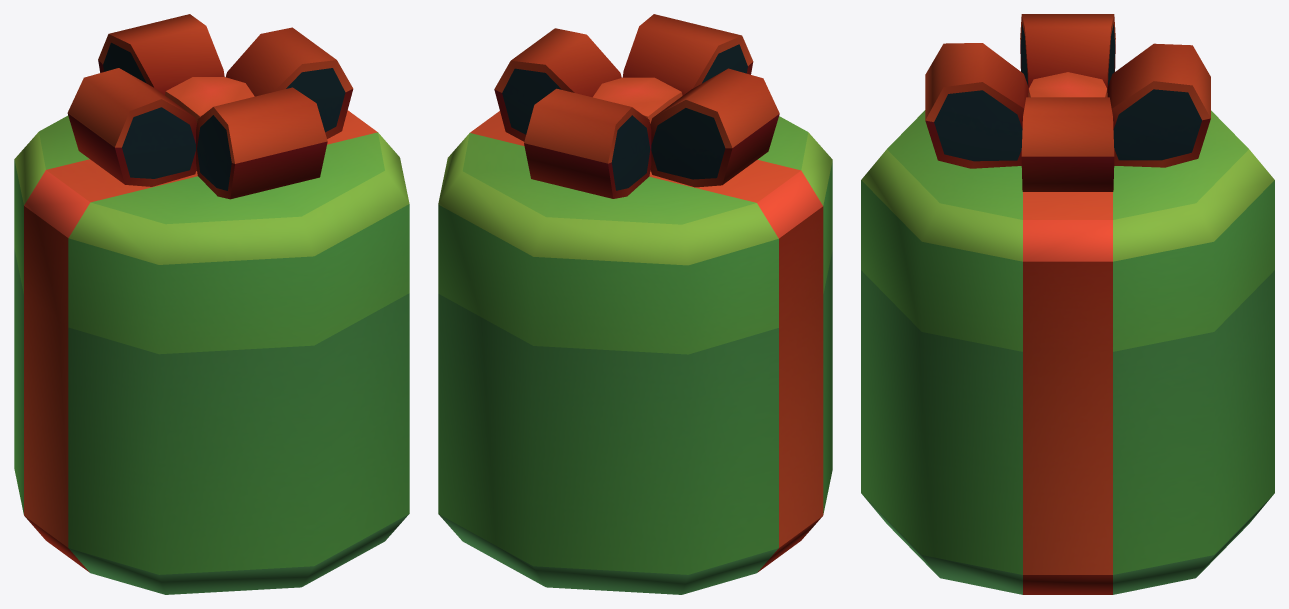
The model's file is presi_round_2_green.fbx.
3 renders of one model, left to right at view 1: azimuth 30°, elevation 25°; view 2: azimuth 150°, elevation 25°; view 3: azimuth 270°, elevation 25°, orthographic.
Parts seen in each view (by area): view 1: presi_round_2_green; view 2: presi_round_2_green; view 3: presi_round_2_green.
Part boxes in pixels (bbox=[...]): presi_round_2_green: bbox=[14, 14, 409, 594]; presi_round_2_green: bbox=[438, 14, 832, 594]; presi_round_2_green: bbox=[861, 14, 1274, 594].
Bounding box in the file's own units: 93.59 × 123 × 100.
1 material, 1 textured.
